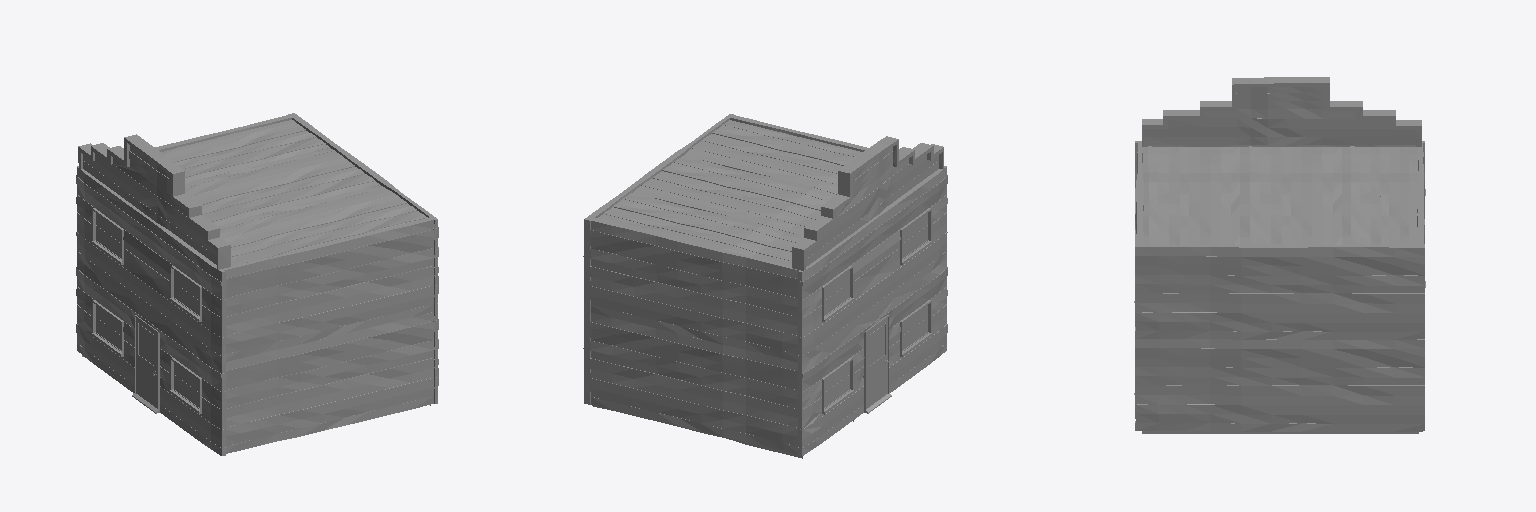
File: DrugStore.obj
3 renders of one model, left to right at view 1: azimuth 30°, elevation 25°; view 2: azimuth 150°, elevation 25°; view 3: azimuth 270°, elevation 25°, orthographic.
Parts seen in each view (by area): view 1: WIldWest_DrugStore_Walls, WIldWest_DrugStore_Front, WIldWest_DrugStore_Ceiling, WIldWest_DrugStore_Window, WIldWest_DrugStore_Door; view 2: WIldWest_DrugStore_Walls, WIldWest_DrugStore_Front, WIldWest_DrugStore_Ceiling, WIldWest_DrugStore_Window, WIldWest_DrugStore_Door; view 3: WIldWest_DrugStore_Walls, WIldWest_DrugStore_Ceiling, WIldWest_DrugStore_Front.
Part boxes in pixels (left/top/right/bottom): WIldWest_DrugStore_Walls: left=155, top=113, right=438, bottom=453; WIldWest_DrugStore_Front: left=76, top=134, right=230, bottom=455; WIldWest_DrugStore_Ceiling: left=82, top=120, right=430, bottom=405; WIldWest_DrugStore_Window: left=96, top=213, right=199, bottom=407; WIldWest_DrugStore_Door: left=136, top=318, right=157, bottom=408; WIldWest_DrugStore_Walls: left=583, top=114, right=867, bottom=453; WIldWest_DrugStore_Front: left=792, top=136, right=947, bottom=455; WIldWest_DrugStore_Ceiling: left=592, top=120, right=862, bottom=458; WIldWest_DrugStore_Window: left=824, top=213, right=927, bottom=407; WIldWest_DrugStore_Door: left=866, top=318, right=888, bottom=408; WIldWest_DrugStore_Walls: left=1134, top=142, right=1425, bottom=431; WIldWest_DrugStore_Ceiling: left=1142, top=146, right=1418, bottom=433; WIldWest_DrugStore_Front: left=1135, top=77, right=1424, bottom=229.
Size of the model in its own units: 7.27 by 7.83 by 8.16.